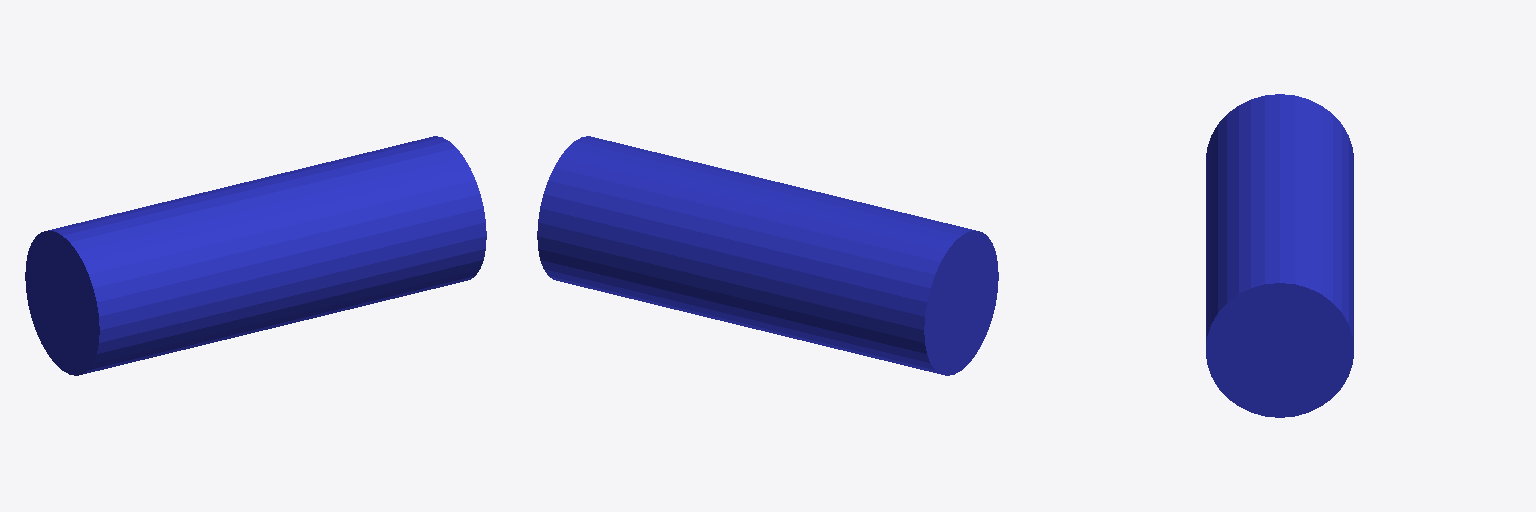
File: pointer.obj
The picture shows the model from 3 angles: view 1: azimuth 30°, elevation 25°; view 2: azimuth 150°, elevation 25°; view 3: azimuth 270°, elevation 25°; orthographic projection.
Parts seen in each view (by area): view 1: Cylinder.002; view 2: Cylinder.002; view 3: Cylinder.002.
Boxes of the visible parts, box(x1,y1,x2,y2) form: Cylinder.002: box(25, 136, 486, 375); Cylinder.002: box(537, 136, 998, 375); Cylinder.002: box(1206, 94, 1353, 417).
Bounding box in the file's own units: 0.3 × 0.1 × 0.1.